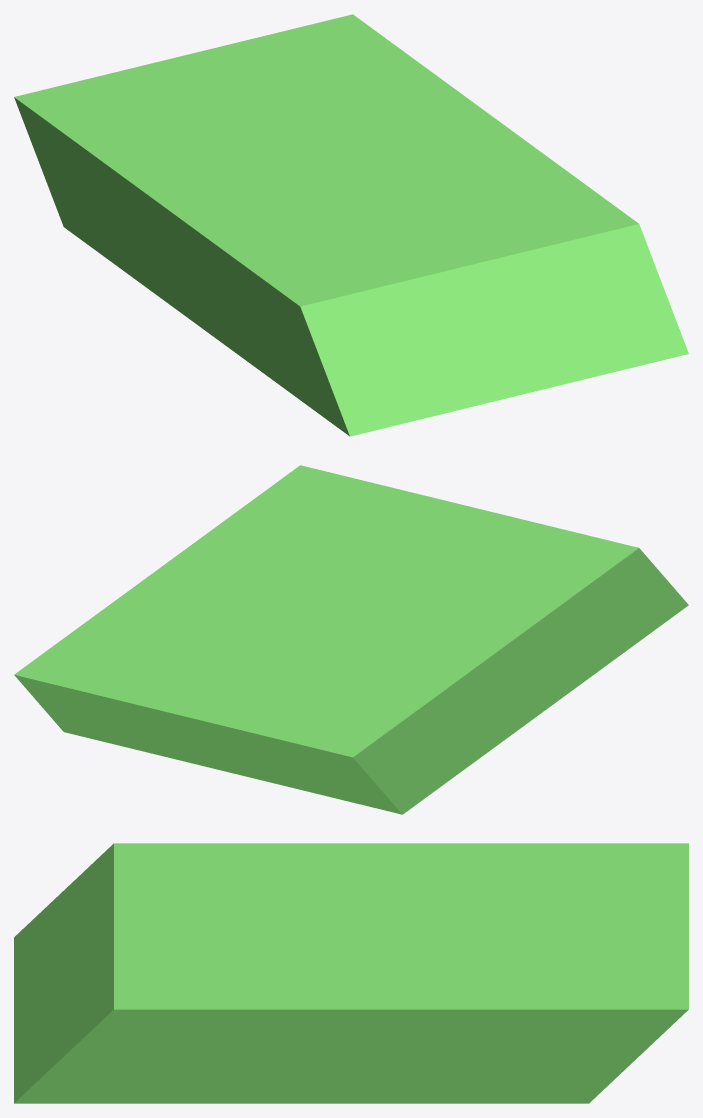
The model's file is sm_Collider38.fbx.
3 renders of one model, top to bottom at view 1: azimuth 30°, elevation 25°; view 2: azimuth 150°, elevation 25°; view 3: azimuth 270°, elevation 25°, orthographic.
Visible parts, largest first — view 1: sm_Collider.042; view 2: sm_Collider.042; view 3: sm_Collider.042.
Part boxes in pixels (x1,y1,x2,y2): sm_Collider.042: (14, 14, 688, 436); sm_Collider.042: (14, 465, 688, 814); sm_Collider.042: (14, 843, 688, 1103).
Bounding box in the file's own units: 267 × 70.49 × 458.
